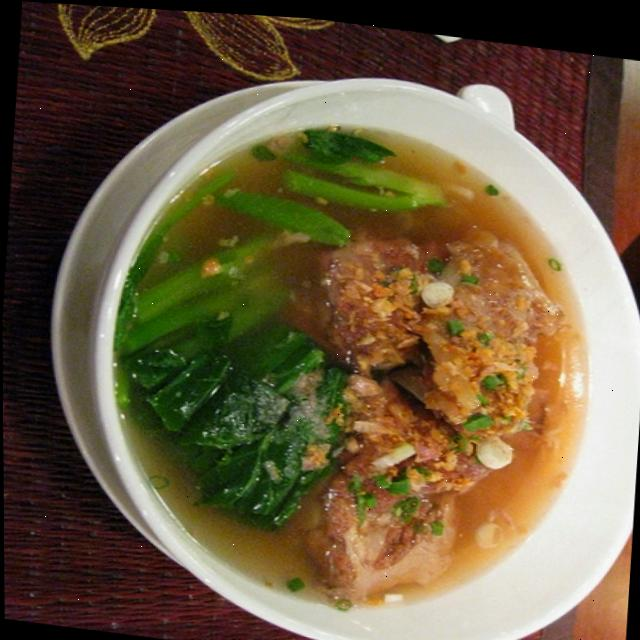面条主食: (92, 77, 637, 640)
